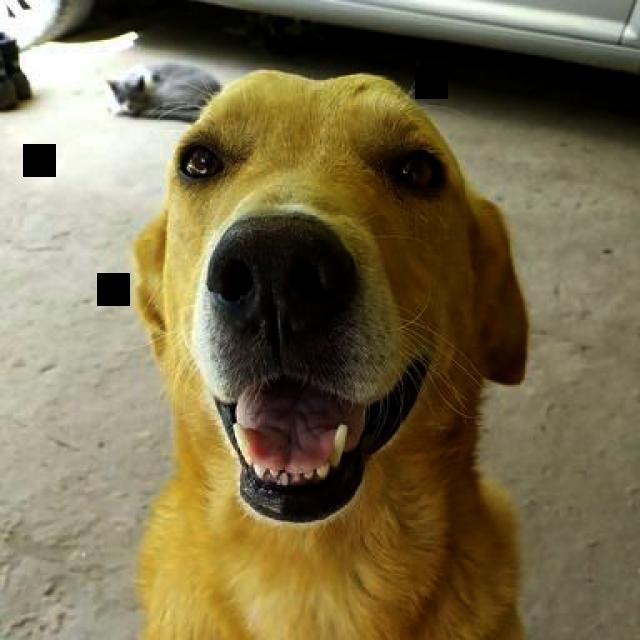adult_dog: (117, 61, 546, 640)
non-dog: (99, 61, 222, 126)
